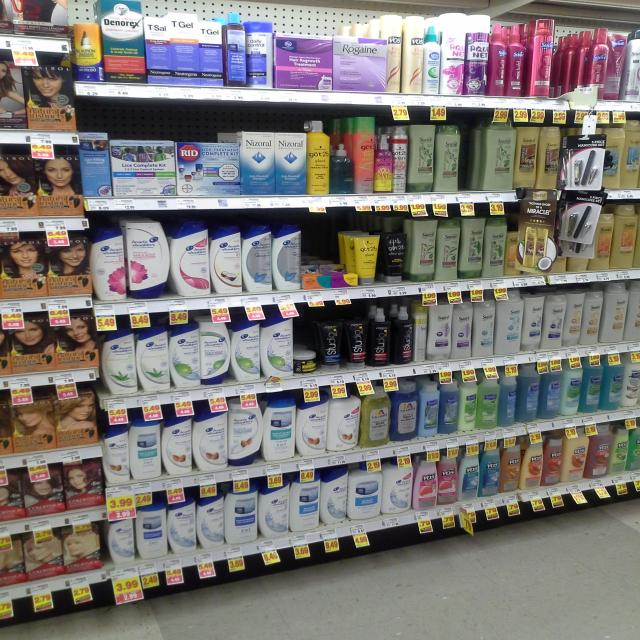unorganised: (490, 22, 527, 99)
